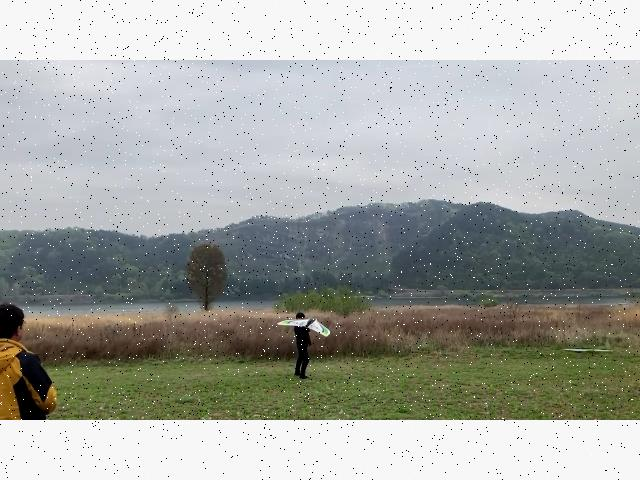Anti-Drone: (276, 304, 332, 340)
